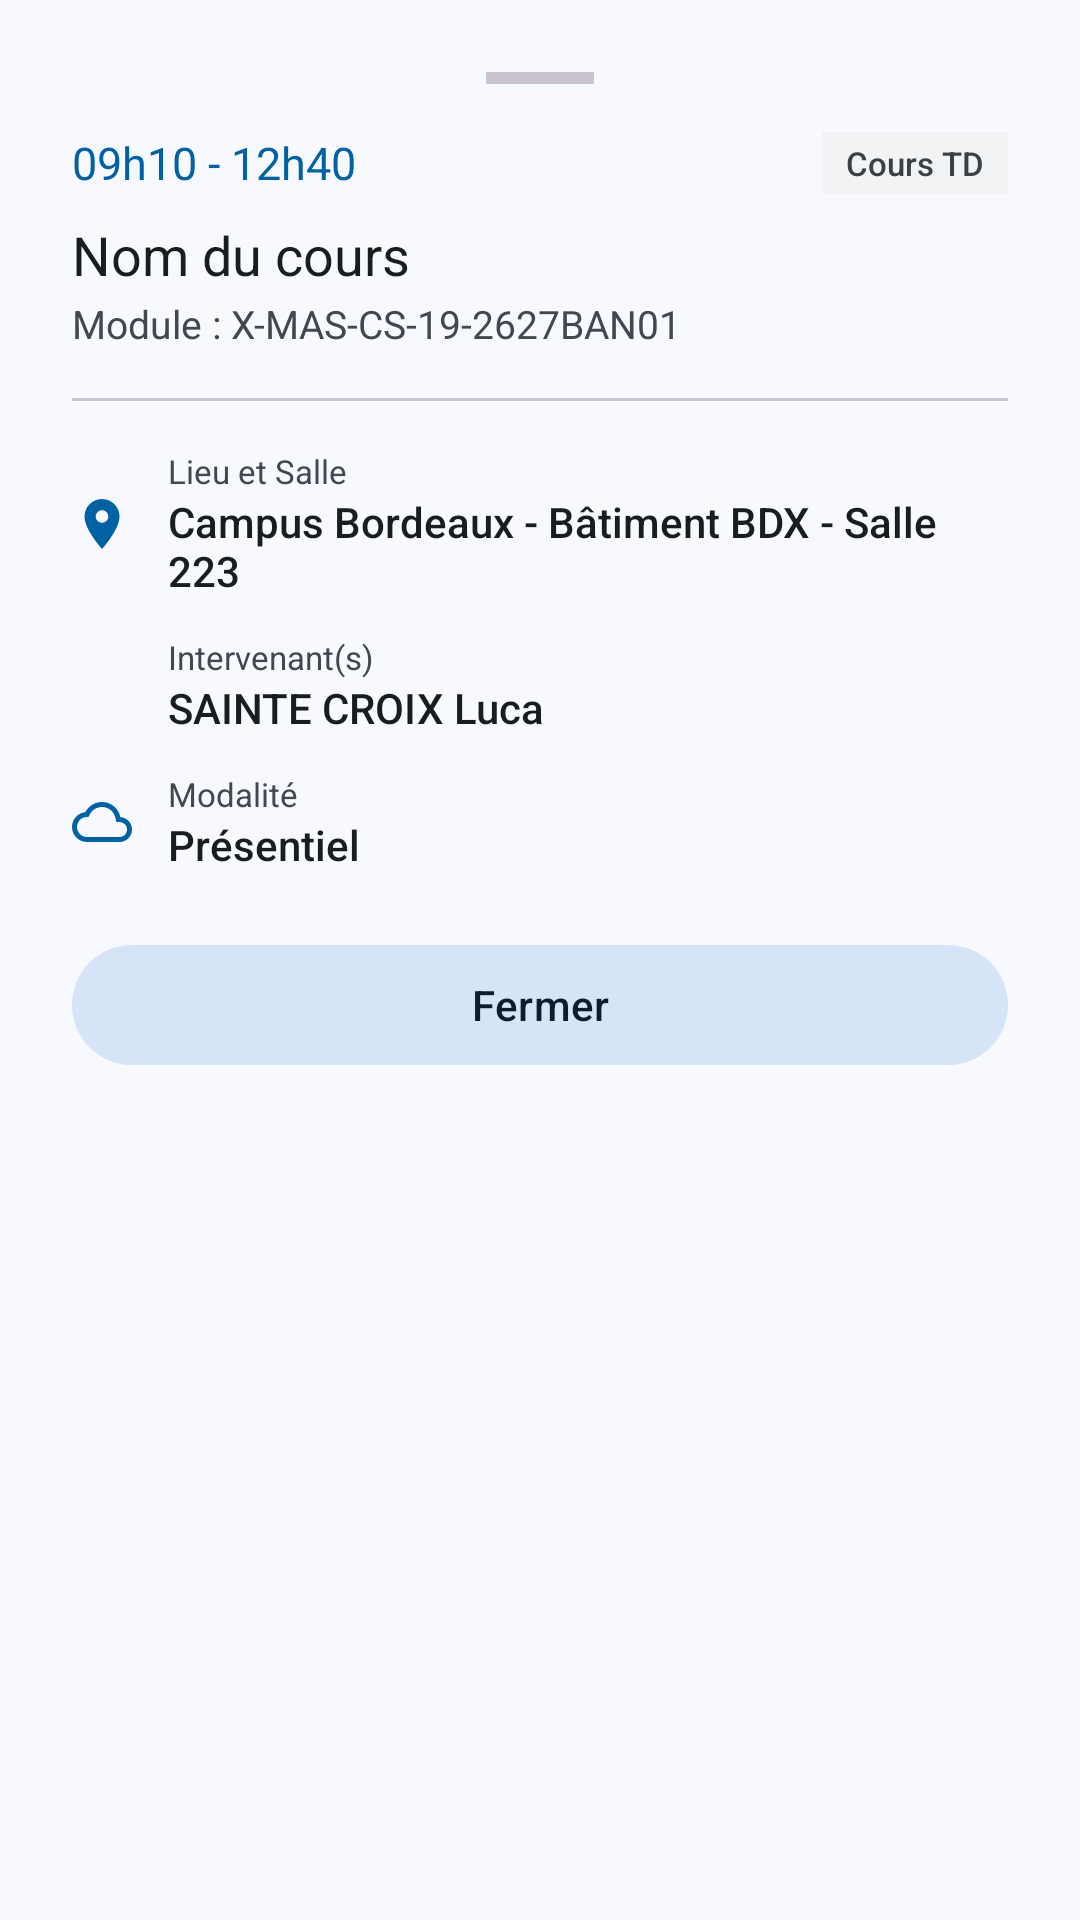

Screen size 1080x1920. Icon name, then its center in pixels as point (x, y):
location: point (102, 524)
